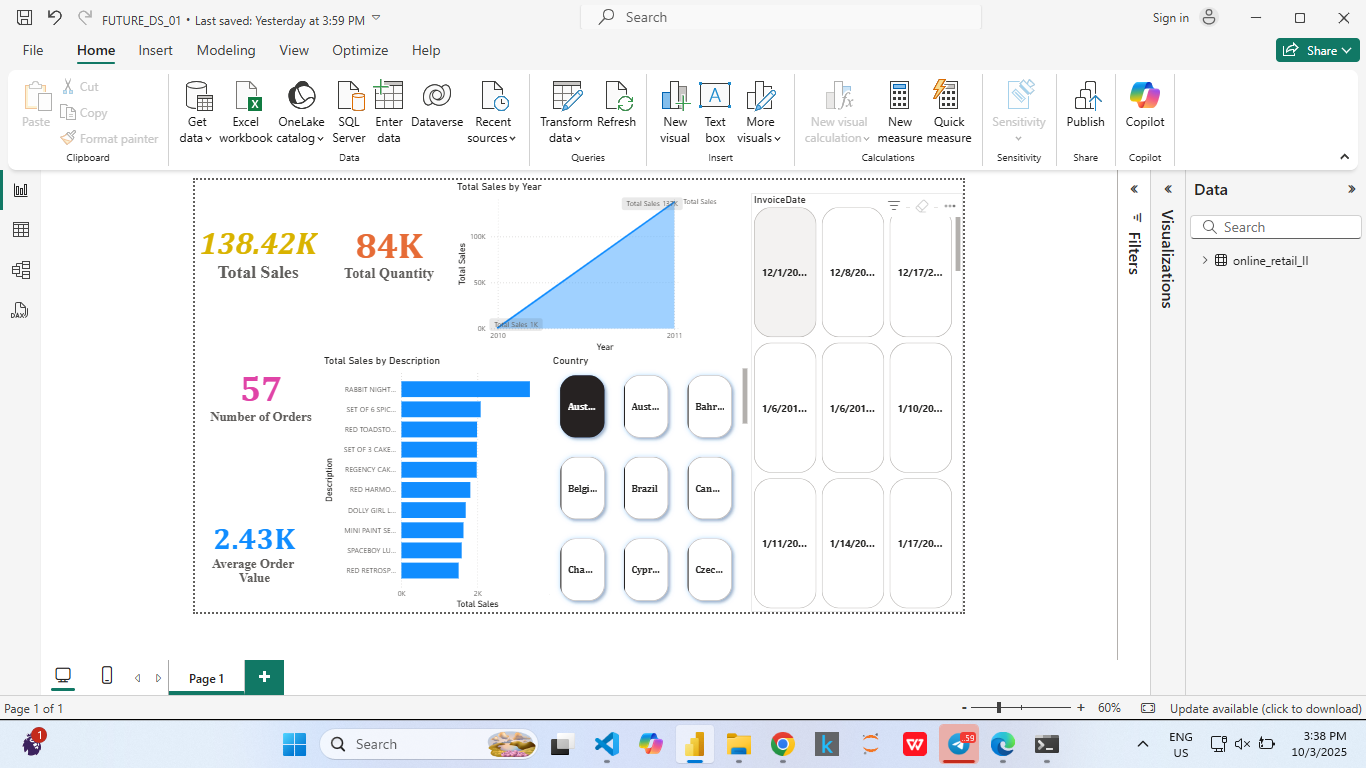

What the dashboard file says about the page in this screenshot:
{"tool":"powerbi","page":{"name":"Page 1","canvas":[1280,720],"ordinal":0},"visuals":[{"type":"card","fields":{"Values":["online_retail_II.Total Sales"]},"box":[0,0,210,233.5],"z":0},{"type":"card","fields":{"Values":["online_retail_II.Number of Orders"]},"box":[10.1,233.5,199.9,243.6],"z":1000},{"type":"card","fields":{"Values":["online_retail_II.Average Order Value"]},"box":[10.1,490.5,178.1,230.1],"z":2000},{"type":"card","fields":{"Values":["online_retail_II.Total Quantity"]},"box":[210,0,226.8,233.5],"z":3000},{"type":"barChart","fields":{"Category":["online_retail_II.Description"],"Y":["online_retail_II.Total Sales"]},"box":[210,290.6,399.8,430],"z":4000},{"type":"lineChart","fields":{"Category":["online_retail_II.InvoiceDate.Variation.Date Hierarchy.Year","online_retail_II.InvoiceDate.Variation.Date Hierarchy.Quarter","online_retail_II.InvoiceDate.Variation.Date Hierarchy.Month","online_retail_II.InvoiceDate.Variation.Date Hierarchy.Day"],"Y":["online_retail_II.Total Sales"]},"box":[431.7,0,448.5,290.6],"z":5000},{"type":"advancedSlicerVisual","fields":{"Values":["online_retail_II.Country"]},"box":[591.3,290.6,334.3,430],"z":6000},{"type":"advancedSlicerVisual","fields":{"Values":["online_retail_II.InvoiceDate"]},"box":[925.6,21.8,354.4,698.8],"z":7000}]}

Visuals, with their boxes on the page's 1280x720 design canvas (x1, y1, x2, y2). These are canvas units, not pixel positions in the 1366x768 screenshot, which may show the page scaled, cropped or inside an application window:
card - online_retail_II.Total Sales: crop(0, 0, 210, 234)
card - online_retail_II.Number of Orders: crop(10, 234, 210, 477)
card - online_retail_II.Average Order Value: crop(10, 490, 188, 721)
card - online_retail_II.Total Quantity: crop(210, 0, 437, 234)
barChart - online_retail_II.Description x online_retail_II.Total Sales: crop(210, 291, 610, 721)
lineChart - online_retail_II.InvoiceDate.Variation.Date Hierarchy.Year x online_retail_II.InvoiceDate.Variation.Date Hierarchy.Quarter: crop(432, 0, 880, 291)
advancedSlicerVisual - online_retail_II.Country: crop(591, 291, 926, 721)
advancedSlicerVisual - online_retail_II.InvoiceDate: crop(926, 22, 1280, 721)
